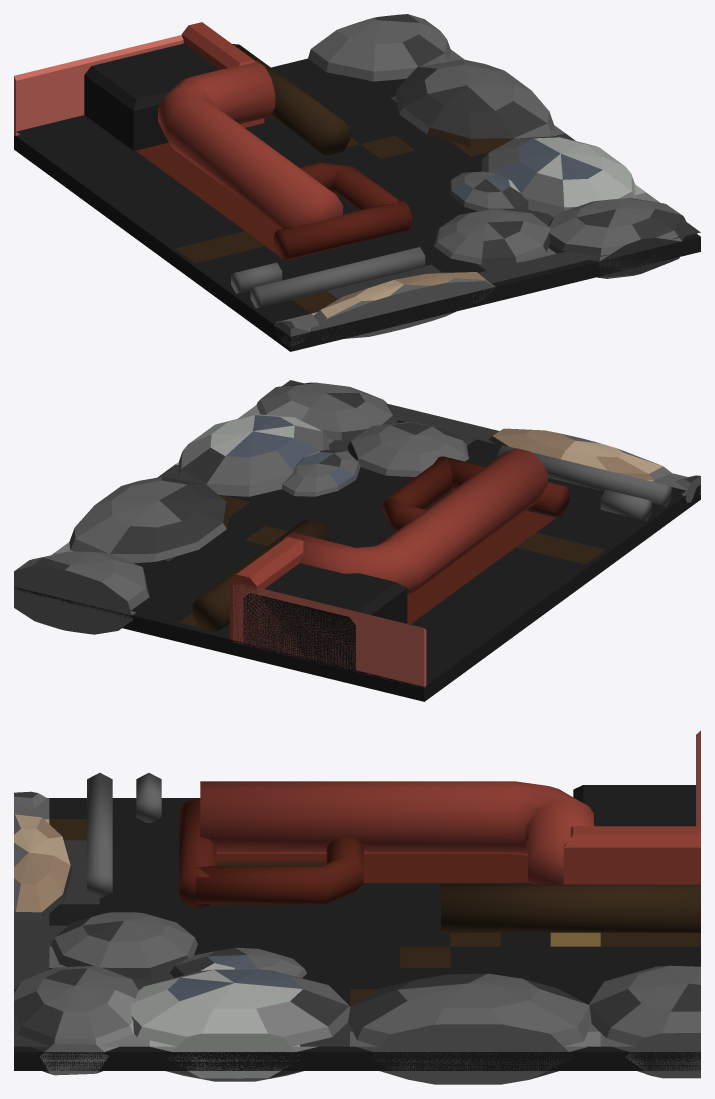
File: newsh2-55.glb
The picture shows the model from 3 angles, top to bottom: view 1: azimuth 30°, elevation 25°; view 2: azimuth 150°, elevation 25°; view 3: azimuth 270°, elevation 25°; orthographic projection. The views are drawn at different scales.
Visible parts, largest first — view 1: newsh2-55; view 2: newsh2-55; view 3: newsh2-55.
Boxes of the visible parts, bbox=[...] form: newsh2-55: bbox=[14, 14, 700, 351]; newsh2-55: bbox=[14, 380, 700, 701]; newsh2-55: bbox=[14, 730, 700, 1084].
Bounding box in the file's own units: 2 × 0.4992 × 2.33.
